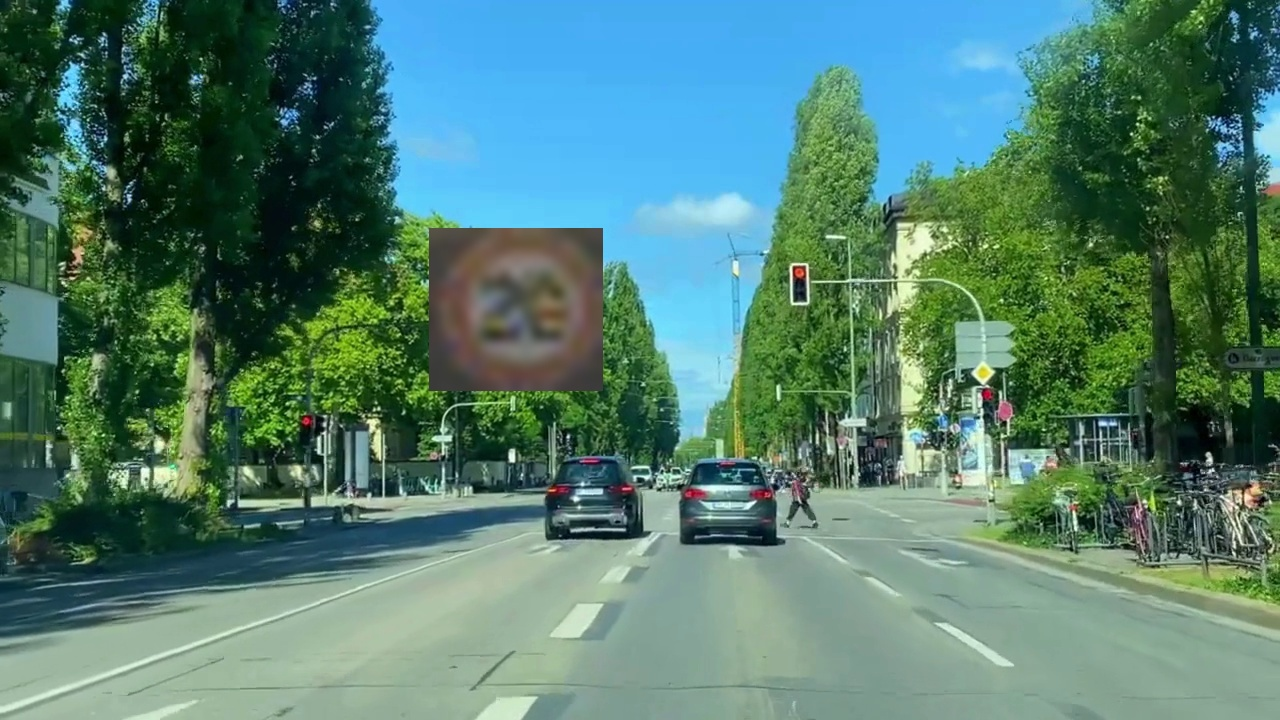Speed 20: (429, 228, 603, 391)
